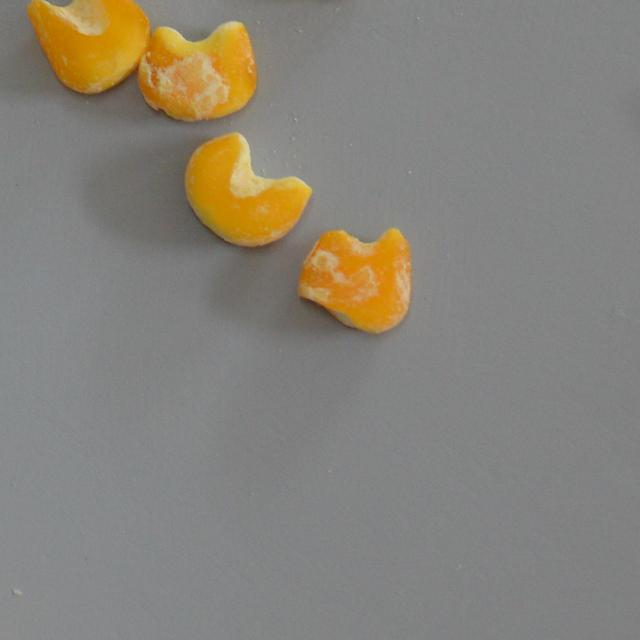dañado: (294, 223, 415, 340), (135, 16, 262, 126), (20, 0, 153, 98)
pelicula: (181, 128, 313, 250)
